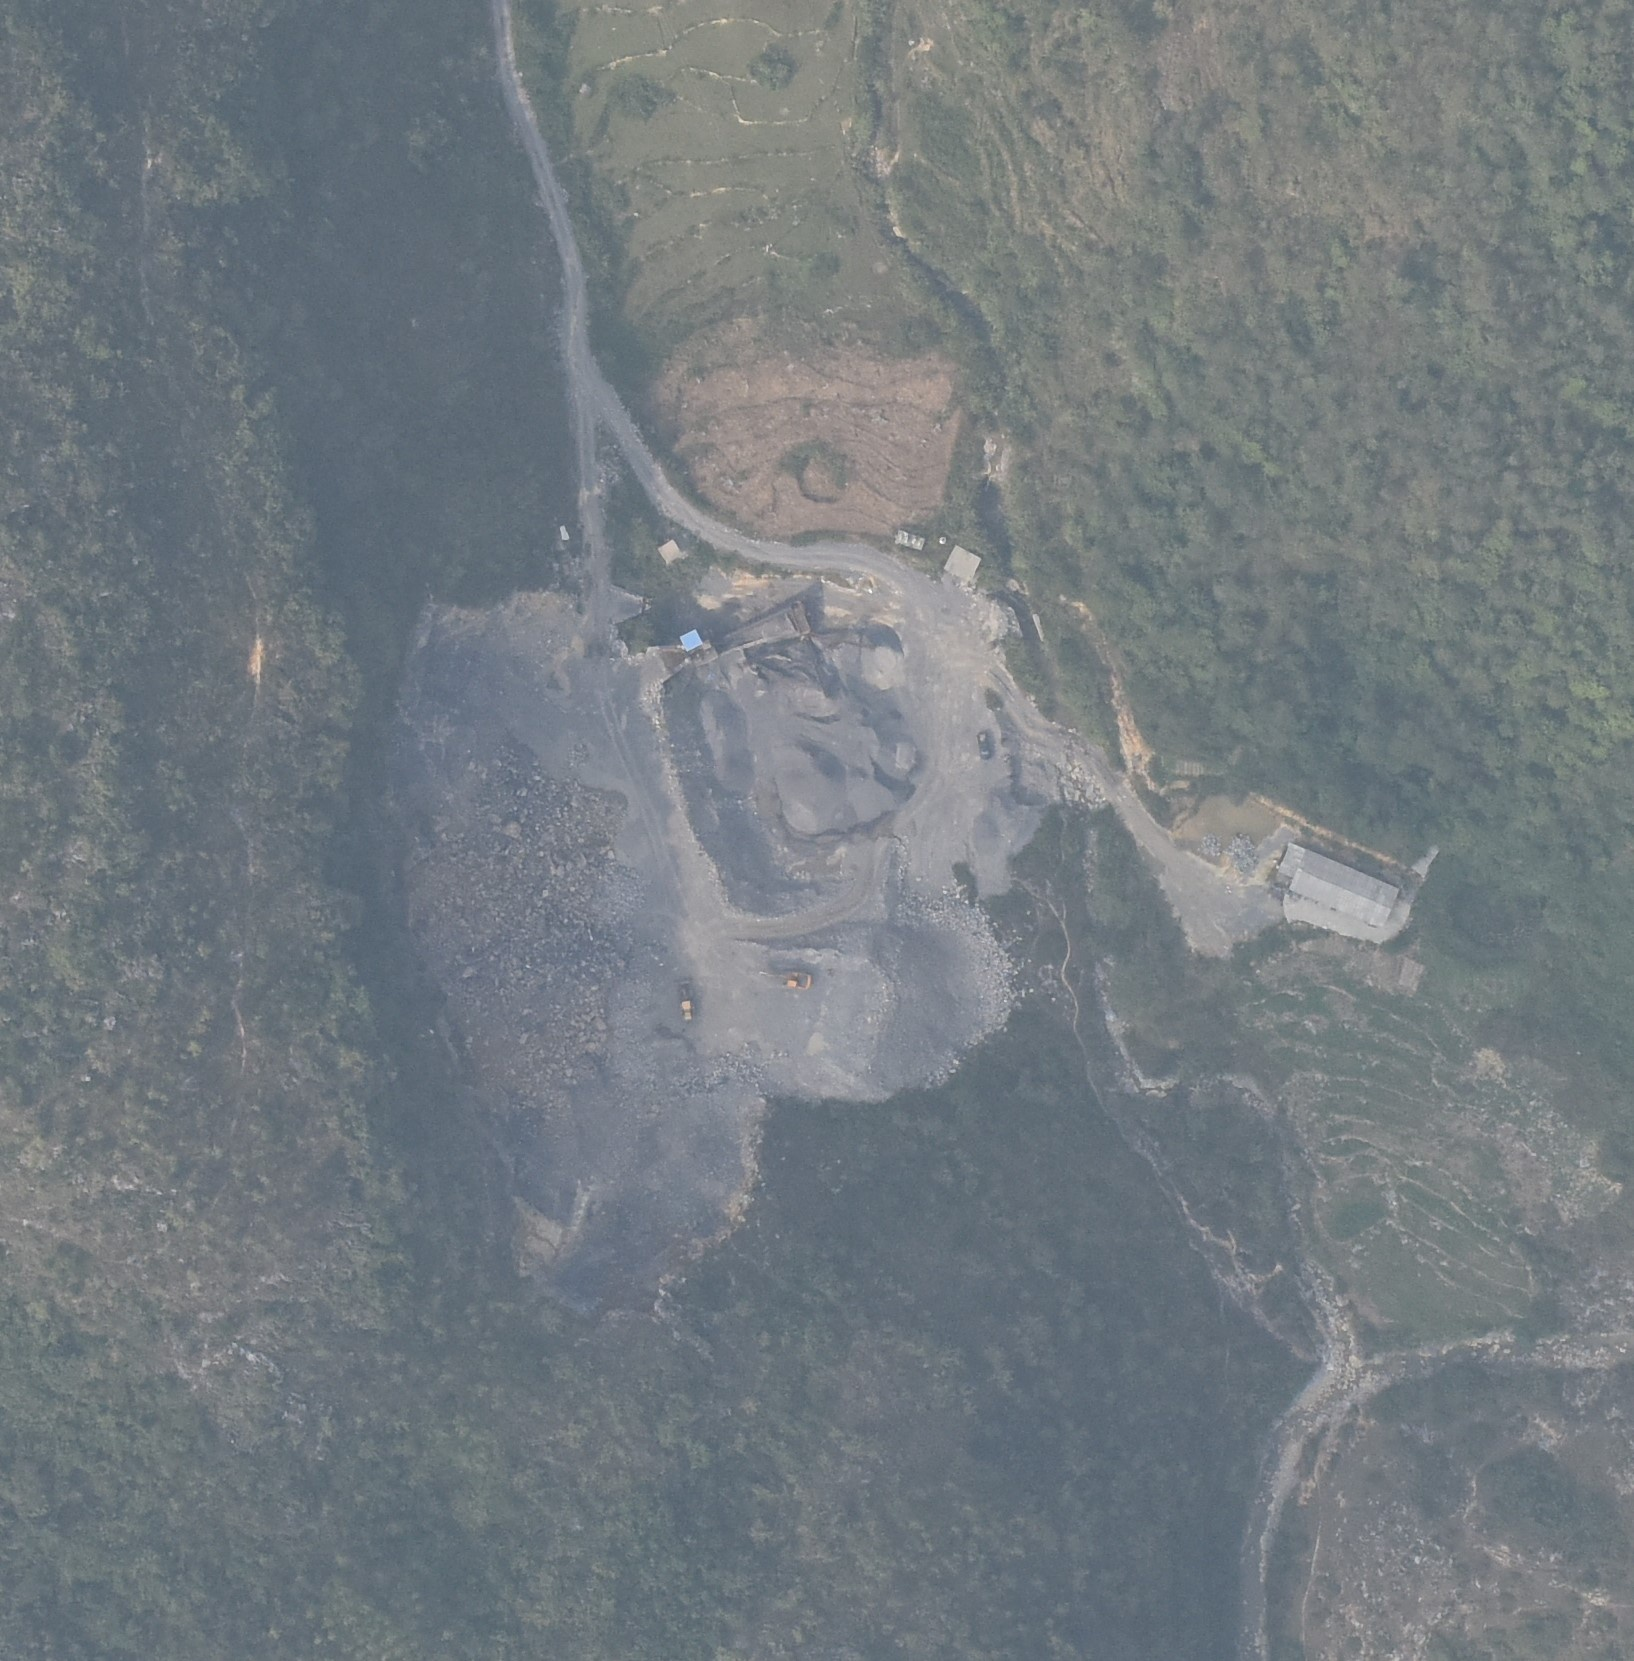building: (1277, 842, 1402, 929)
prefabricated-house: (679, 628, 702, 652)
quarry: (399, 528, 1416, 1309)
vehicle: (760, 967, 812, 992), (677, 981, 694, 1023), (976, 731, 991, 760)
